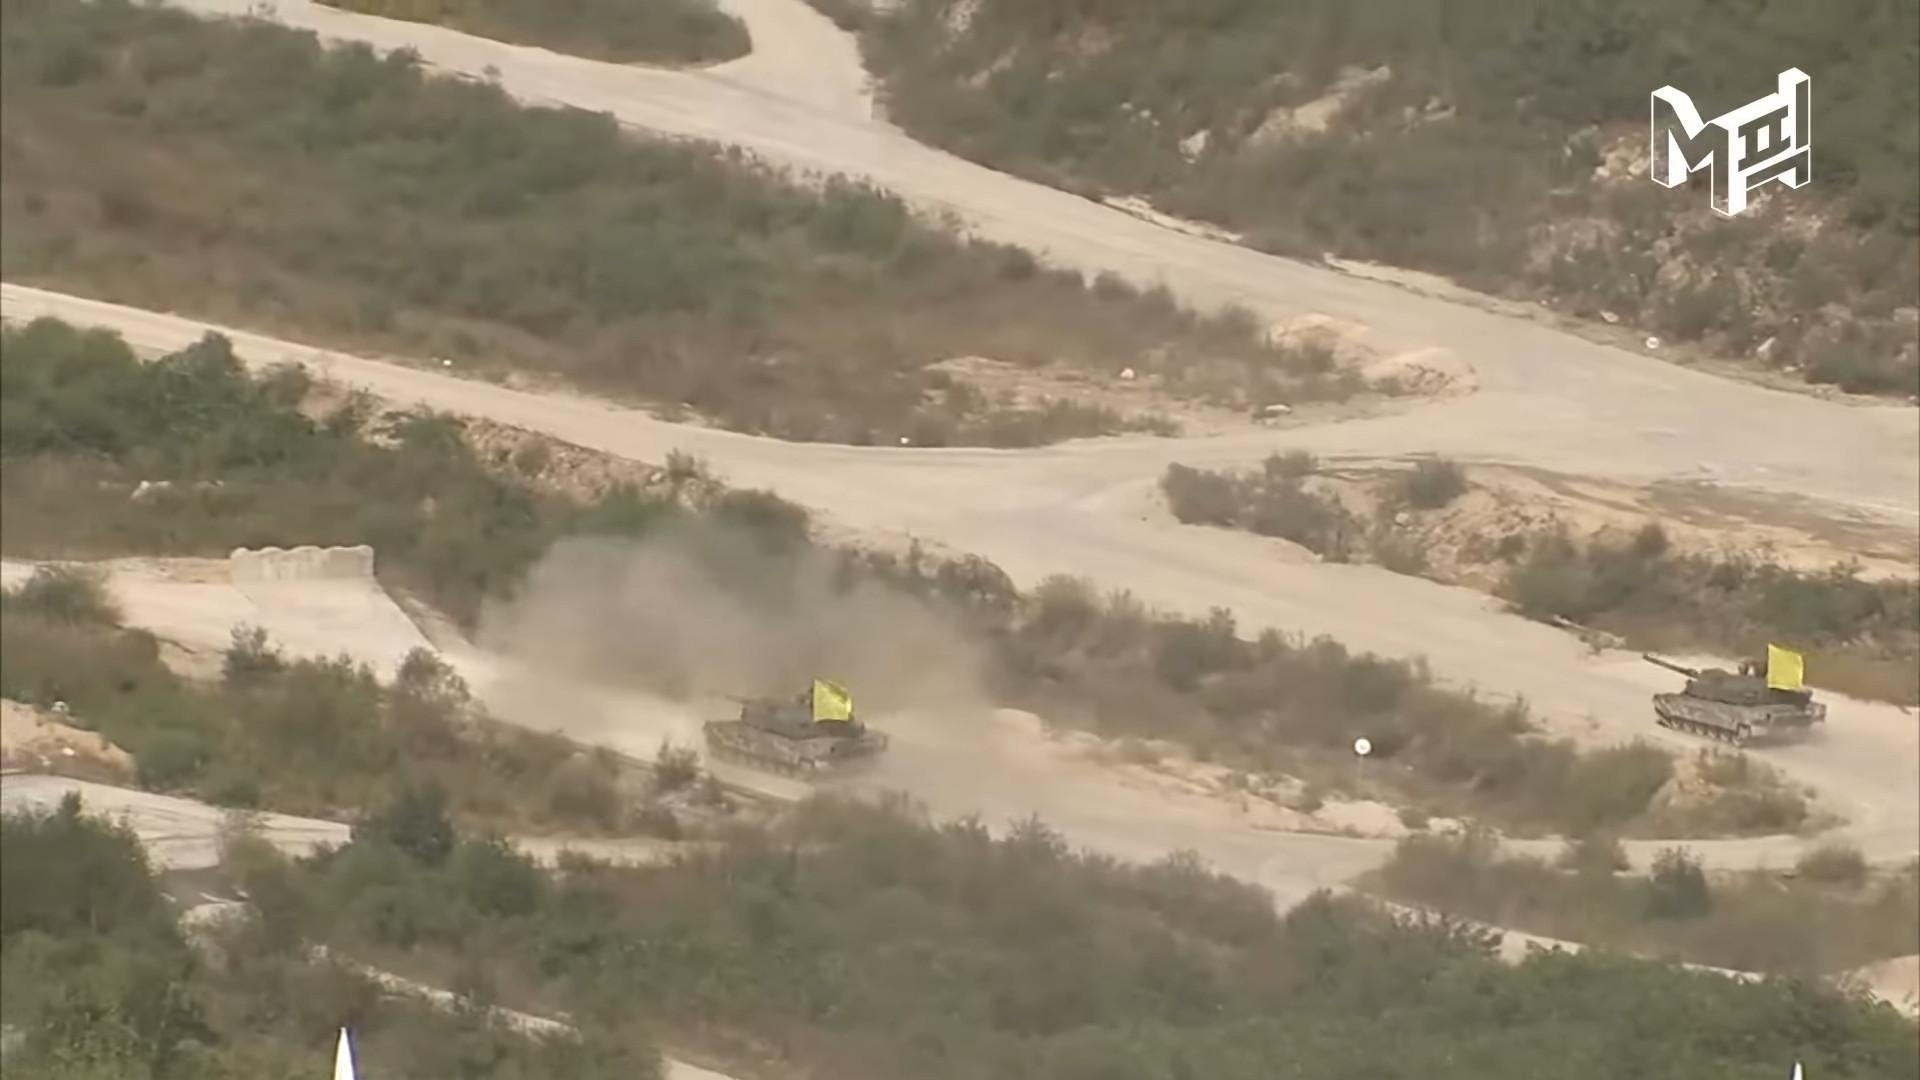tank: (703, 686, 886, 782), (1643, 653, 1826, 749)
